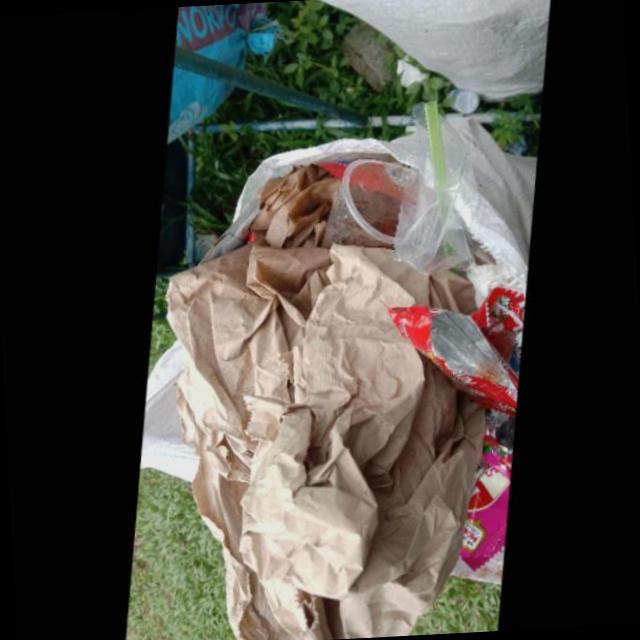bao_bi_thuc_pham: (378, 302, 517, 417), (460, 407, 512, 571)
giay: (161, 162, 485, 640)
ong_hut_nhua: (418, 102, 441, 184)
